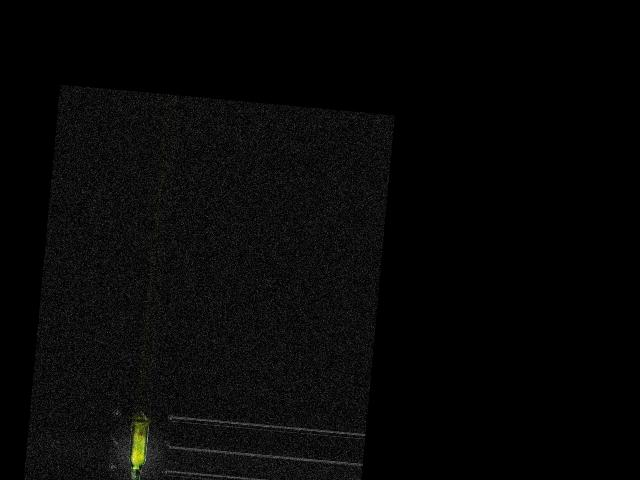beer: (126, 419, 150, 480)
